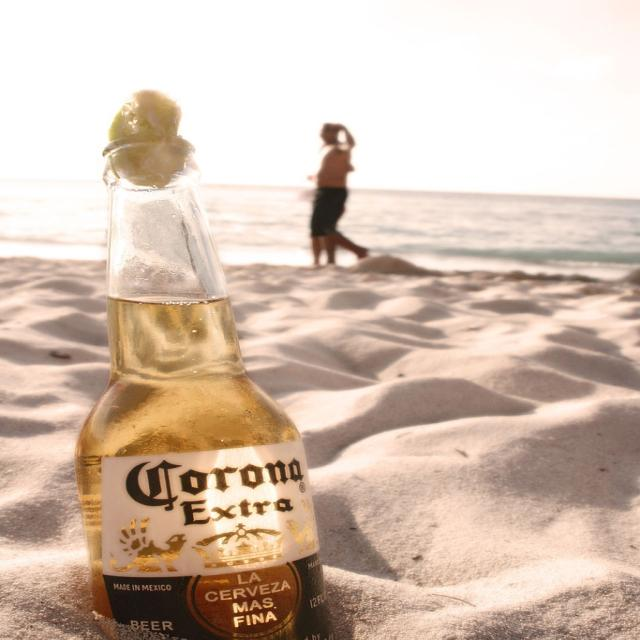corona: (101, 442, 338, 640)
